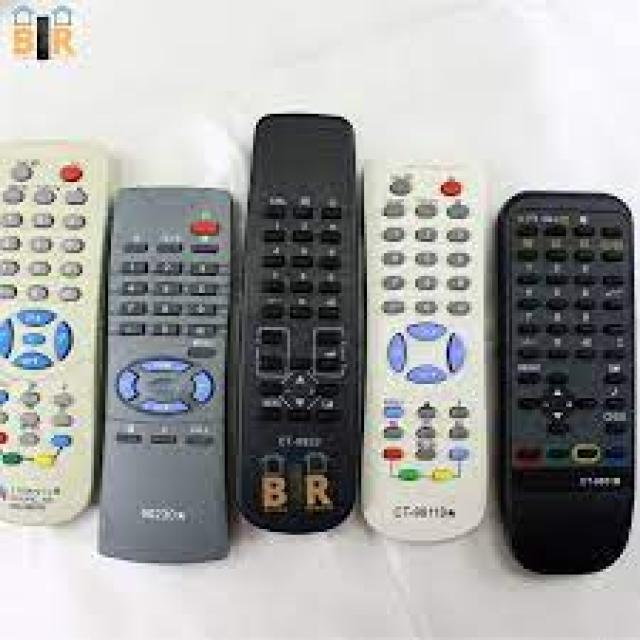remote: (94, 188, 235, 567), (508, 190, 638, 581), (366, 151, 491, 544), (247, 116, 363, 532), (0, 139, 105, 526)
